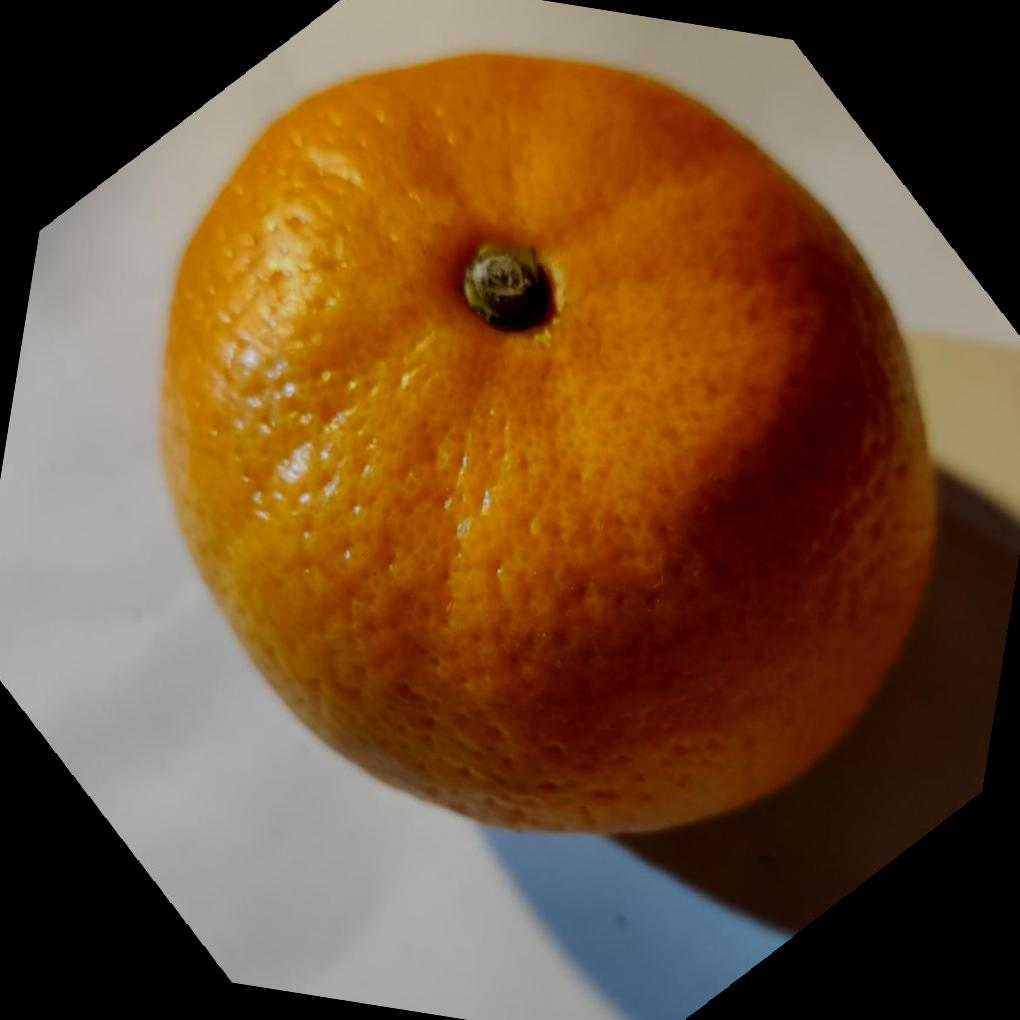FreshGuava: (155, 45, 939, 835)
